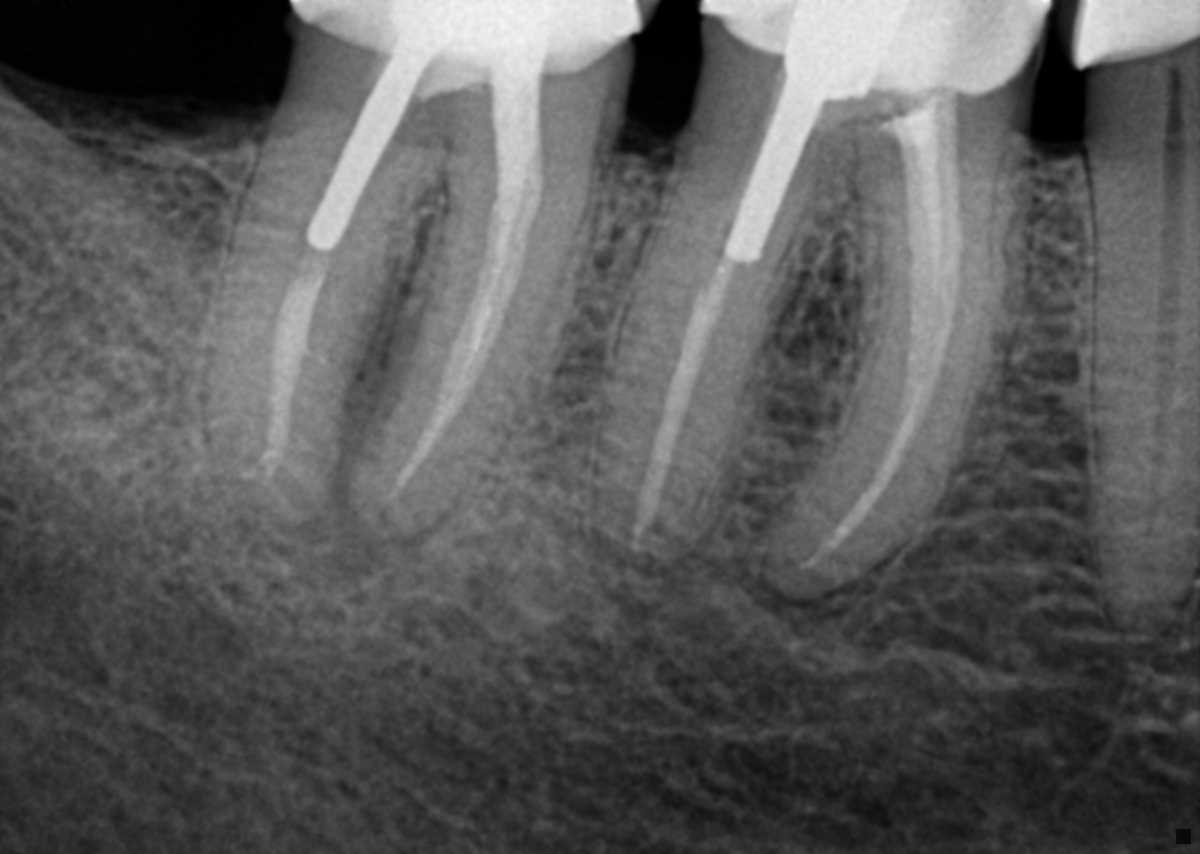Apical Lesion: (331, 377, 435, 585), (746, 560, 901, 629)
Distal Root: (592, 146, 834, 568), (206, 129, 425, 534)
Main Canal: (1143, 169, 1186, 554)
Main Root: (1085, 161, 1200, 645)
Mesial Root: (766, 165, 1034, 605), (359, 164, 609, 537)
Root Canal Filling: (796, 90, 959, 574), (385, 62, 541, 501), (631, 252, 739, 560), (239, 242, 332, 490)
